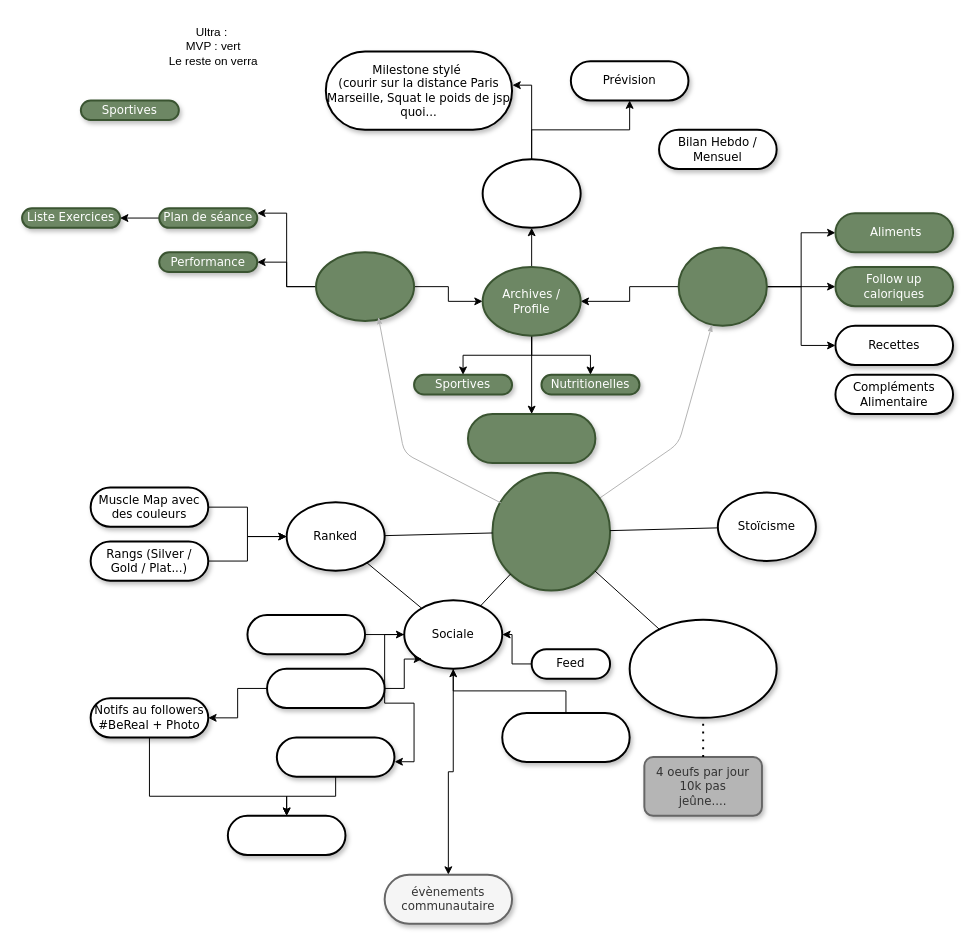
This 976x948 diagram has some shape labels left out. The shapes that lost their labels are listed below. From the top down, each one's centre as x and y in pixels, then its label:
At (x=532, y=194): "Visualization".
At (x=365, y=287): "Sport".
At (x=723, y=287): "Nutrition".
At (x=532, y=439): "Basic Info (height / weight / target)".
At (x=551, y=532): "Ultra".
At (x=306, y=636): "Challenges Globaux / Perso".
At (x=326, y=689): "Amis / followers".
At (x=703, y=669): "Astuces / Posts avec une approche scientifique".
At (x=336, y=758): "Calendrier".
At (x=566, y=738): "Recap entrainement (#Story)".
At (x=287, y=836): "Workout w friends".
